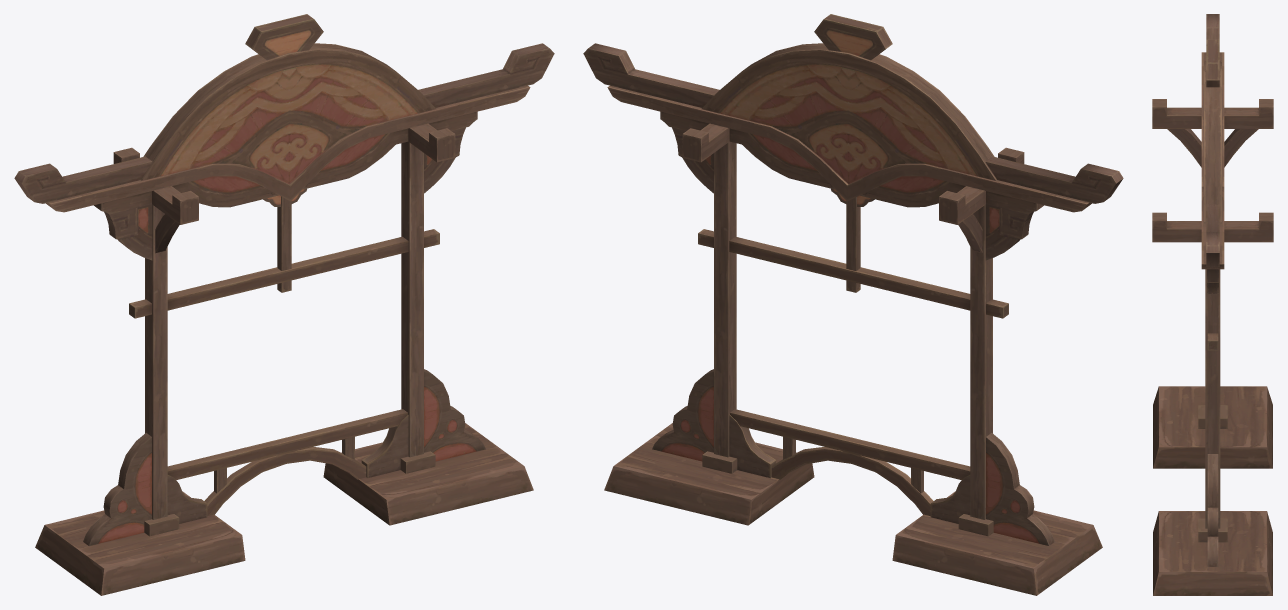
Rendered from Homeworld_Exterior_Ly_Lamp_Build_ScoringShelf_04_Vo.fbx.
3 views of the same model, side by side, from view 1: azimuth 30°, elevation 25°; view 2: azimuth 150°, elevation 25°; view 3: azimuth 270°, elevation 25° (orthographic). The views are drawn at different scales.
Parts seen in each view (by area): view 1: Homeworld_Exterior_Ly_Lamp_Build_ScoringShelf_04_Vo; view 2: Homeworld_Exterior_Ly_Lamp_Build_ScoringShelf_04_Vo; view 3: Homeworld_Exterior_Ly_Lamp_Build_ScoringShelf_04_Vo.
Part boxes in pixels (left/top/right/bottom): Homeworld_Exterior_Ly_Lamp_Build_ScoringShelf_04_Vo: left=14, top=14, right=554, bottom=595; Homeworld_Exterior_Ly_Lamp_Build_ScoringShelf_04_Vo: left=583, top=14, right=1123, bottom=595; Homeworld_Exterior_Ly_Lamp_Build_ScoringShelf_04_Vo: left=1152, top=14, right=1273, bottom=595.
Size of the model in its own units: 3.6 by 3.2 by 0.7832.
Materials: 1 (1 with a texture image).
